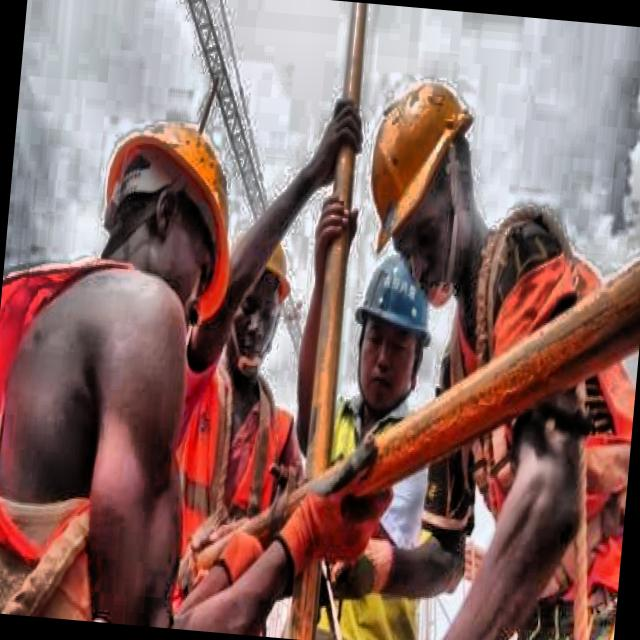helmet: (84, 88, 250, 316), (352, 74, 488, 308), (340, 234, 442, 416), (214, 220, 298, 378)
